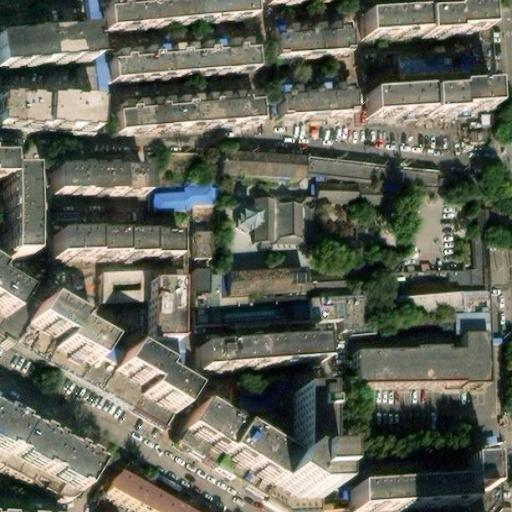building: (0, 406, 113, 504), (178, 397, 291, 482), (349, 457, 491, 512), (346, 337, 480, 391), (113, 85, 252, 121), (193, 336, 319, 375), (112, 35, 251, 70), (33, 302, 104, 368), (57, 221, 176, 255), (112, 354, 178, 413), (2, 84, 96, 124), (366, 90, 493, 118), (0, 19, 93, 57), (361, 10, 486, 38), (304, 158, 434, 182), (51, 166, 140, 198), (392, 53, 488, 78), (270, 77, 347, 108), (255, 197, 313, 238), (295, 394, 327, 466), (266, 22, 343, 51), (442, 234, 486, 279), (115, 0, 254, 14), (12, 158, 34, 246), (304, 299, 359, 334), (149, 281, 177, 341), (284, 464, 328, 501), (449, 170, 484, 213), (458, 277, 489, 324), (223, 283, 305, 300), (318, 250, 399, 265), (218, 167, 297, 182), (394, 287, 459, 304), (315, 191, 379, 204), (216, 308, 273, 322), (150, 189, 184, 212), (187, 265, 207, 302), (205, 269, 217, 322), (183, 183, 211, 205), (108, 279, 140, 297), (190, 232, 207, 259)
